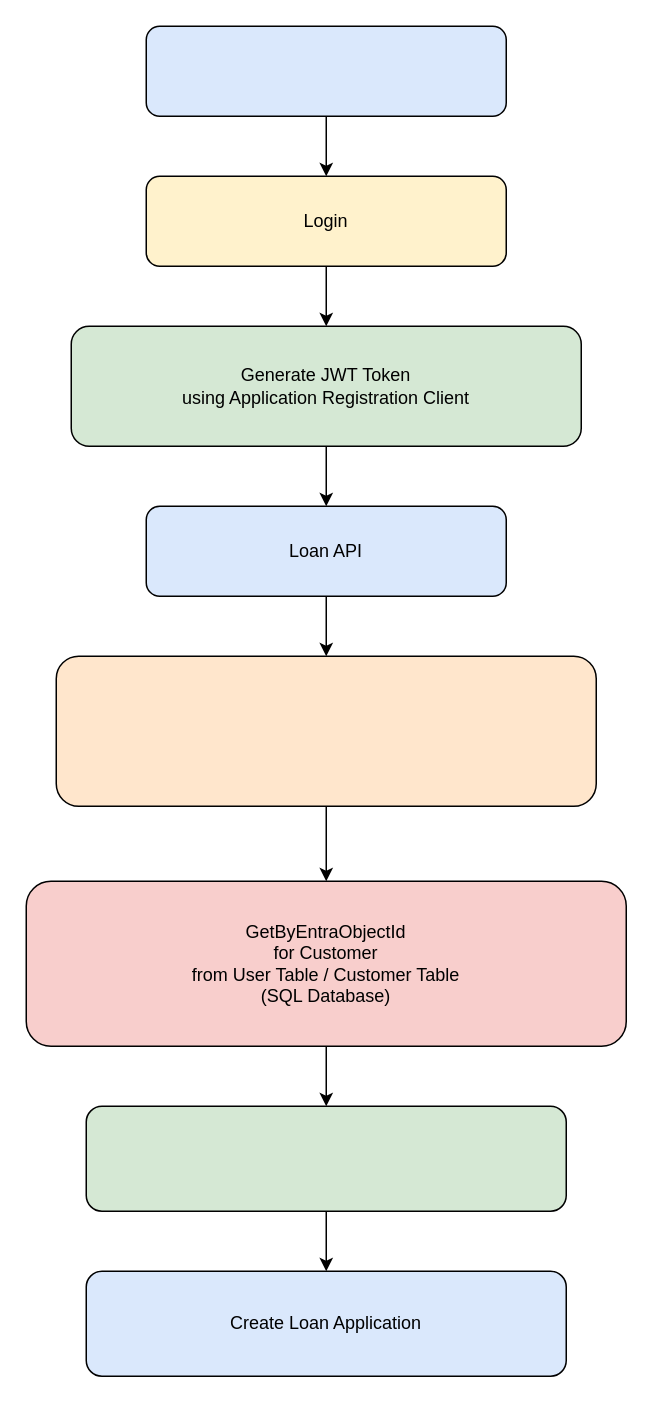
The diagram is 653 pixels wide and 1403 high, and some of its shapes have lost their labels. Here are the shapes that lost their labels. From the top down, the centre of each, then its label:
At (325,70): "Customer".
At (325,730): "Validate Token Extract oid of Client App Registration".
At (325,1158): "Authorise User or Customer".
